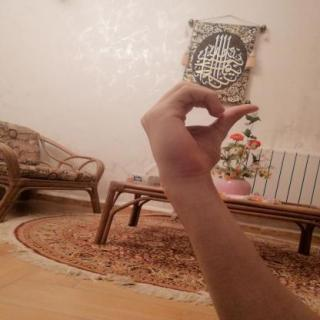WAW: (131, 75, 270, 190)
